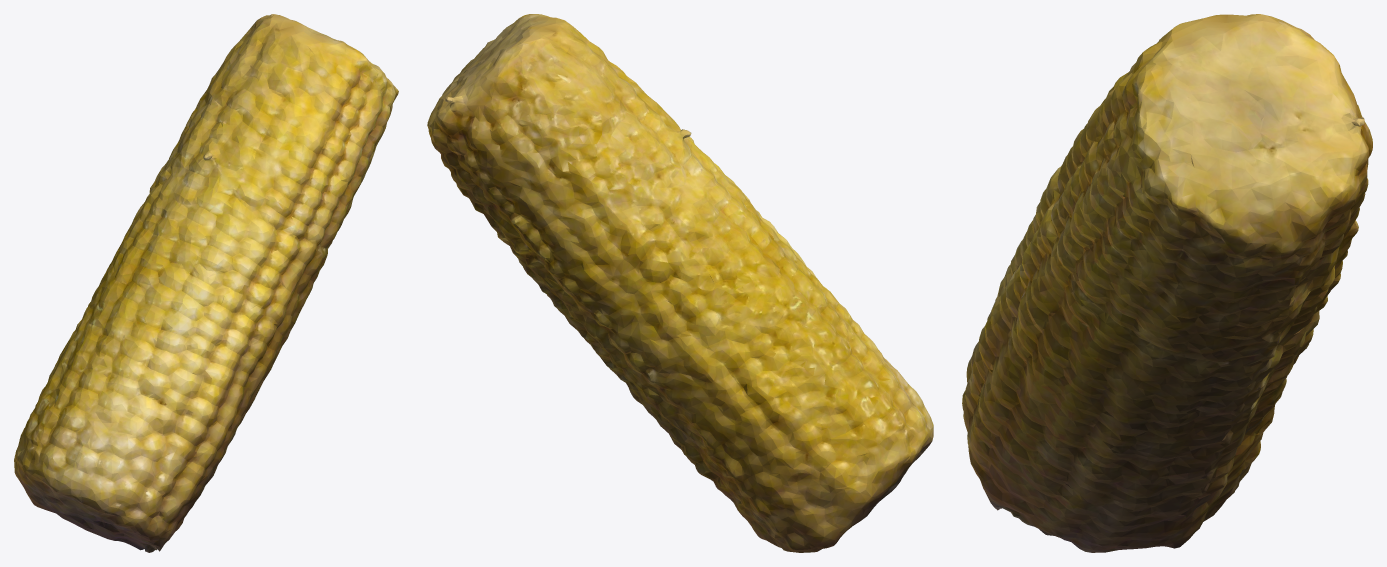
Rendered from Mais.fbx.
3 renders of one model, left to right at view 1: azimuth 30°, elevation 25°; view 2: azimuth 150°, elevation 25°; view 3: azimuth 270°, elevation 25°, orthographic. The views are drawn at different scales.
Parts seen in each view (by area): view 1: Mais_tex_high; view 2: Mais_tex_high; view 3: Mais_tex_high.
Boxes of the visible parts, x1,y1,x2,y2 form: Mais_tex_high: (14, 14, 398, 552); Mais_tex_high: (427, 14, 933, 552); Mais_tex_high: (962, 14, 1372, 552).
Bounding box in the file's own units: 11.59 × 12.4 × 6.81.
